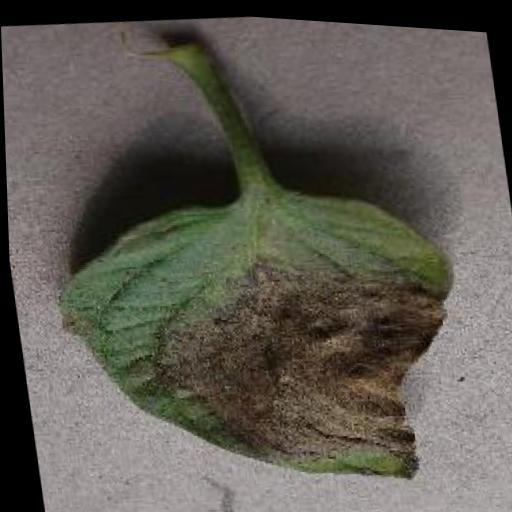Late Blight: (35, 150, 480, 512)
